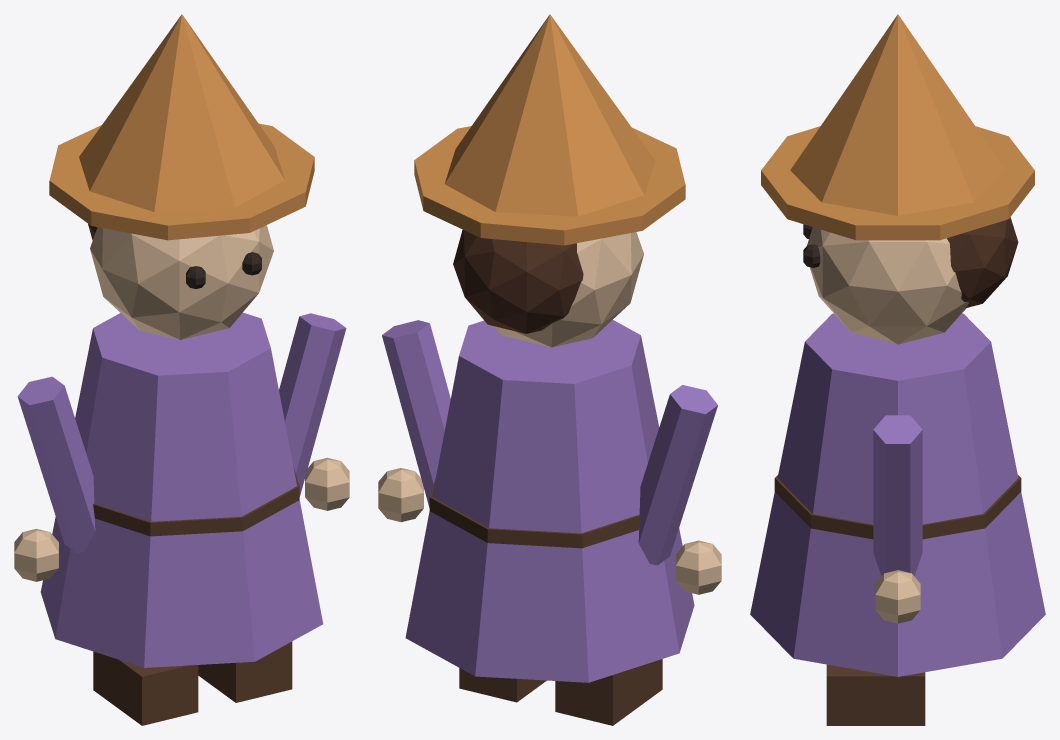
Rendered from villager_4.glb.
The picture shows the model from 3 angles, left to right: view 1: azimuth 30°, elevation 25°; view 2: azimuth 150°, elevation 25°; view 3: azimuth 270°, elevation 25°; orthographic projection. The views are drawn at different scales.
Visible parts, largest first — view 1: villager_4; view 2: villager_4; view 3: villager_4.
Boxes of the visible parts, x1,y1,x2,y2 form: villager_4: [14, 14, 349, 725]; villager_4: [378, 14, 721, 725]; villager_4: [750, 14, 1045, 725].
Bounding box in the file's own units: 0.6078 × 1.16 × 0.459.
